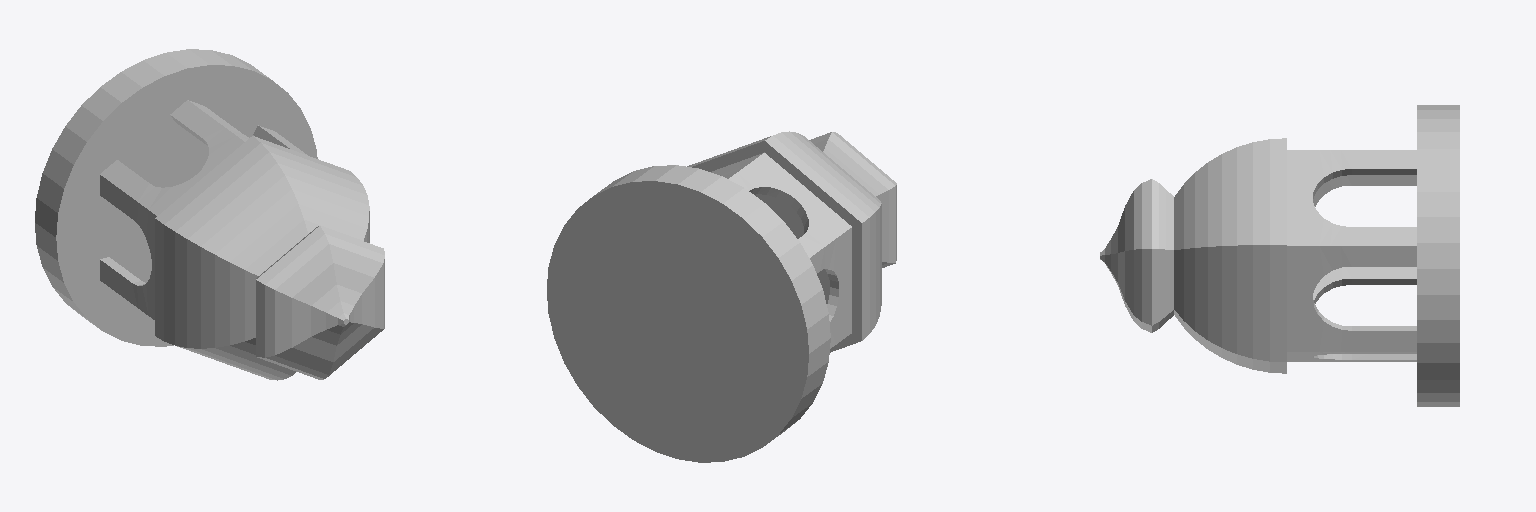
The model's file is gazebo.obj.
3 views of the same model, side by side, from view 1: azimuth 30°, elevation 25°; view 2: azimuth 150°, elevation 25°; view 3: azimuth 270°, elevation 25° (orthographic).
Visible parts, largest first — view 1: Sphere, Cylinder_Cylinder.003, pillarSharp_Cylinder; view 2: Cylinder_Cylinder.003, Sphere, pillarSharp_Cylinder; view 3: Sphere, pillarSharp_Cylinder, Cylinder_Cylinder.003.
Part boxes in pixels (x1,y1,x2,y2): Sphere: (155,136,384,380); Cylinder_Cylinder.003: (35,49,317,346); pillarSharp_Cylinder: (100,100,306,319); Cylinder_Cylinder.003: (547,165,830,462); Sphere: (687,131,896,352); pillarSharp_Cylinder: (711,152,851,348); Sphere: (1100,138,1286,373); pillarSharp_Cylinder: (1287,150,1416,361); Cylinder_Cylinder.003: (1417,105,1459,406).
Size of the model in its own units: 7 by 7 by 8.32.